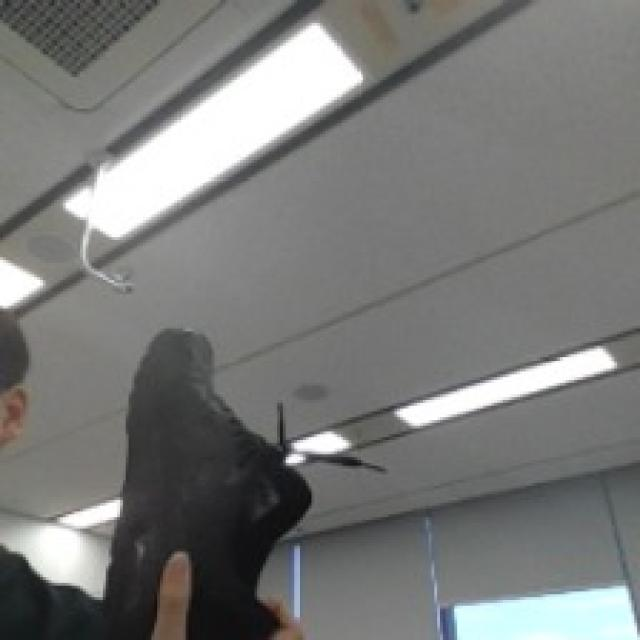shoe: (77, 313, 380, 640)
